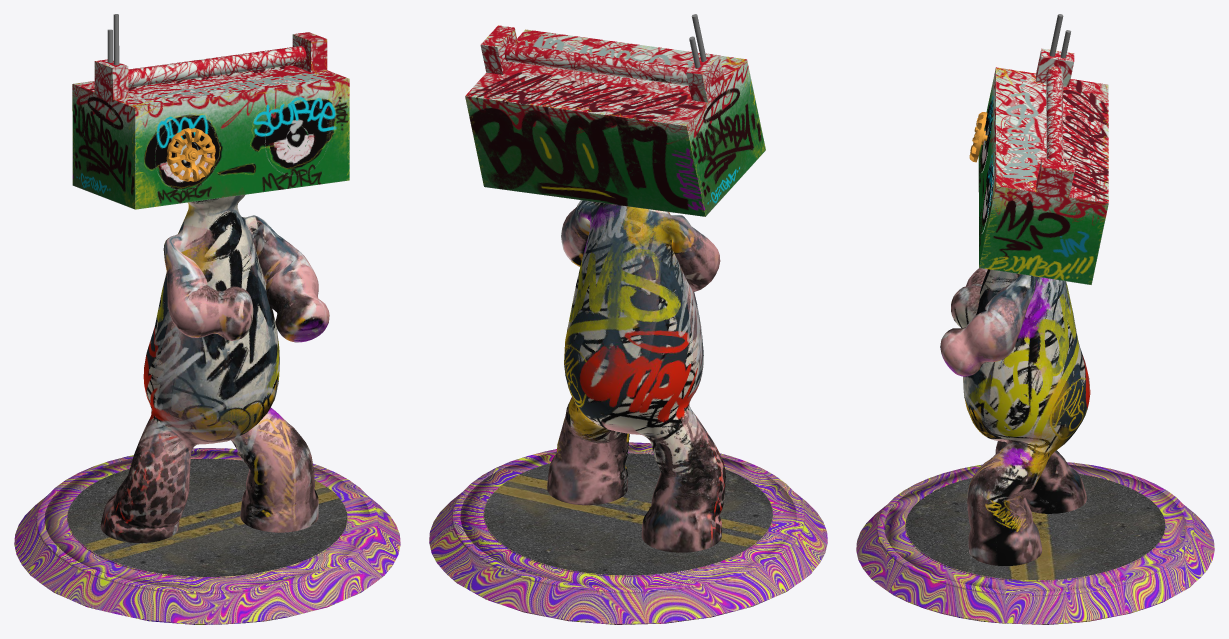
The picture shows the model from 3 angles, left to right: view 1: azimuth 30°, elevation 25°; view 2: azimuth 150°, elevation 25°; view 3: azimuth 270°, elevation 25°; orthographic projection. The views are drawn at different scales.
Parts seen in each view (by area): view 1: BBody; view 2: BBody; view 3: BBody.
Boxes of the visible parts, x1,y1,x2,y2 form: BBody: [14, 14, 400, 624]; BBody: [429, 14, 827, 624]; BBody: [856, 14, 1214, 624].
Bounding box in the file's own units: 1.45 × 2.23 × 1.45.
6 materials, 5 textured.
